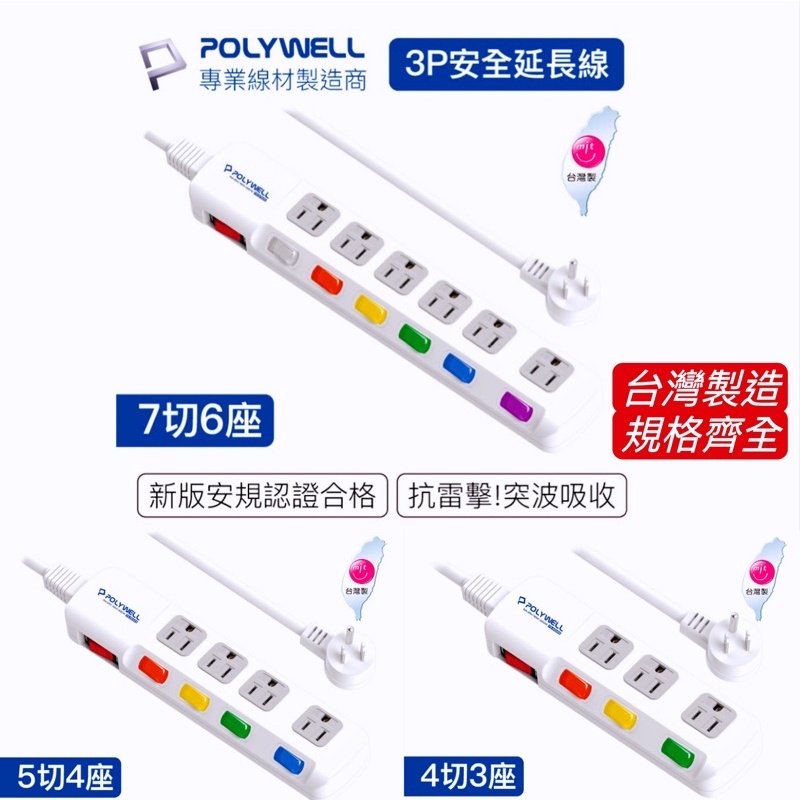socket: (165, 138, 606, 452), (42, 562, 357, 796), (466, 569, 755, 795)
